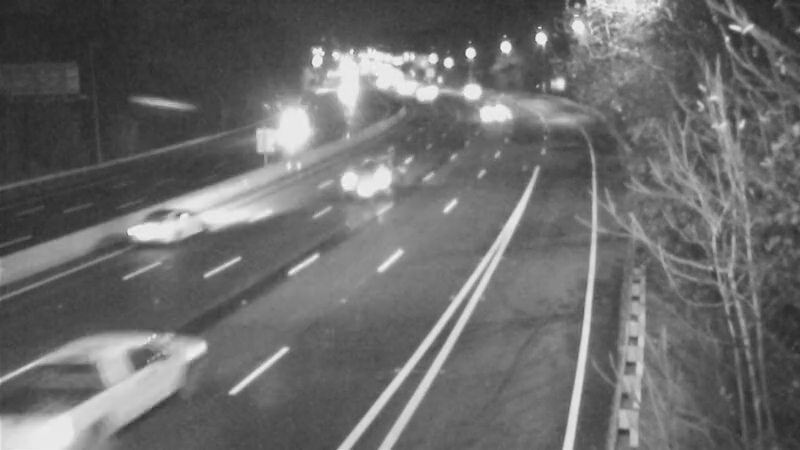vehicle: (1, 353, 92, 450), (321, 139, 401, 219), (113, 183, 193, 263), (452, 67, 502, 117), (464, 87, 514, 137), (268, 98, 318, 148)
